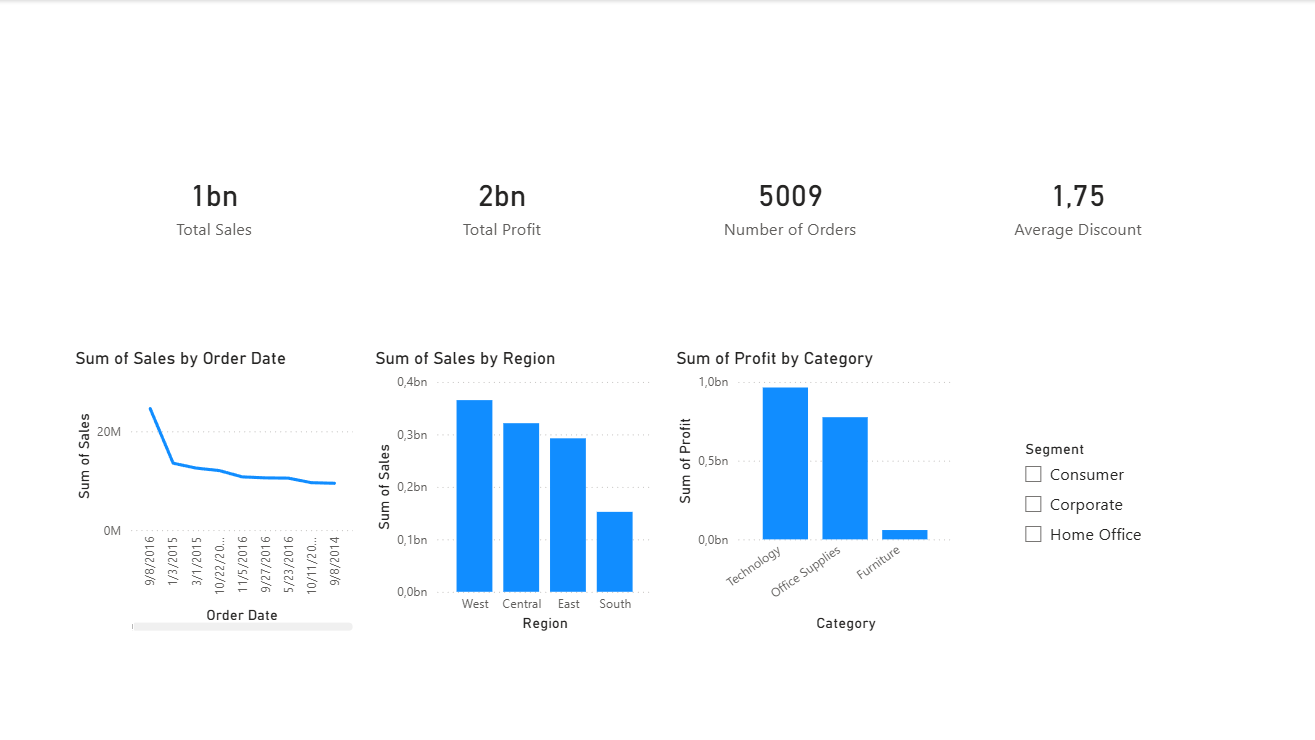

This screenshot's page, from the dashboard's own definition file:
{"tool":"powerbi","page":{"name":"Page 1","canvas":[1280,720],"ordinal":0},"visuals":[{"type":"card","fields":{"Values":["Sum(Sample - Superstore.Sales)"]},"box":[68.1,58.3,280.1,280.1],"z":0},{"type":"card","fields":{"Values":["Sum(Sample - Superstore.Profit)"]},"box":[348.2,58.3,280.1,280.1],"z":1000},{"type":"card","fields":{"Values":["Count(Sample - Superstore.Order ID)"]},"box":[628.3,58.3,280.1,280.1],"z":2000},{"type":"card","fields":{"Values":["Avg(Sample - Superstore.Discount)"]},"box":[908.4,58.3,280.1,280.1],"z":3000},{"type":"lineChart","fields":{"Category":["Sample - Superstore.Order Date"],"Y":["Sum(Sample - Superstore.Sales)"]},"box":[68.1,338.5,280.1,280.1],"z":4000},{"type":"columnChart","fields":{"Category":["Sample - Superstore.Region"],"Y":["Sum(Sample - Superstore.Sales)"]},"box":[359.9,338.5,280.1,280.1],"z":5000},{"type":"columnChart","fields":{"Category":["Sample - Superstore.Category"],"Y":["Sum(Sample - Superstore.Profit)"]},"box":[652.6,338.5,280.1,280.1],"z":6000},{"type":"slicer","fields":{"Values":["Sample - Superstore.Segment"]},"box":[984.3,423.1,160.5,130.3],"z":7000}]}

Visuals, with their boxes in screenshot pixels (x1, y1, x2, y2), scaled from the page's 1280x720 canvas onto the 1315x740 screenshot:
card - Sum(Sample - Superstore.Sales): bbox(70, 60, 358, 348)
card - Sum(Sample - Superstore.Profit): bbox(358, 60, 645, 348)
card - Count(Sample - Superstore.Order ID): bbox(645, 60, 933, 348)
card - Avg(Sample - Superstore.Discount): bbox(933, 60, 1221, 348)
lineChart - Sample - Superstore.Order Date x Sum(Sample - Superstore.Sales): bbox(70, 348, 358, 636)
columnChart - Sample - Superstore.Region x Sum(Sample - Superstore.Sales): bbox(370, 348, 658, 636)
columnChart - Sample - Superstore.Category x Sum(Sample - Superstore.Profit): bbox(670, 348, 958, 636)
slicer - Sample - Superstore.Segment: bbox(1011, 435, 1176, 569)
